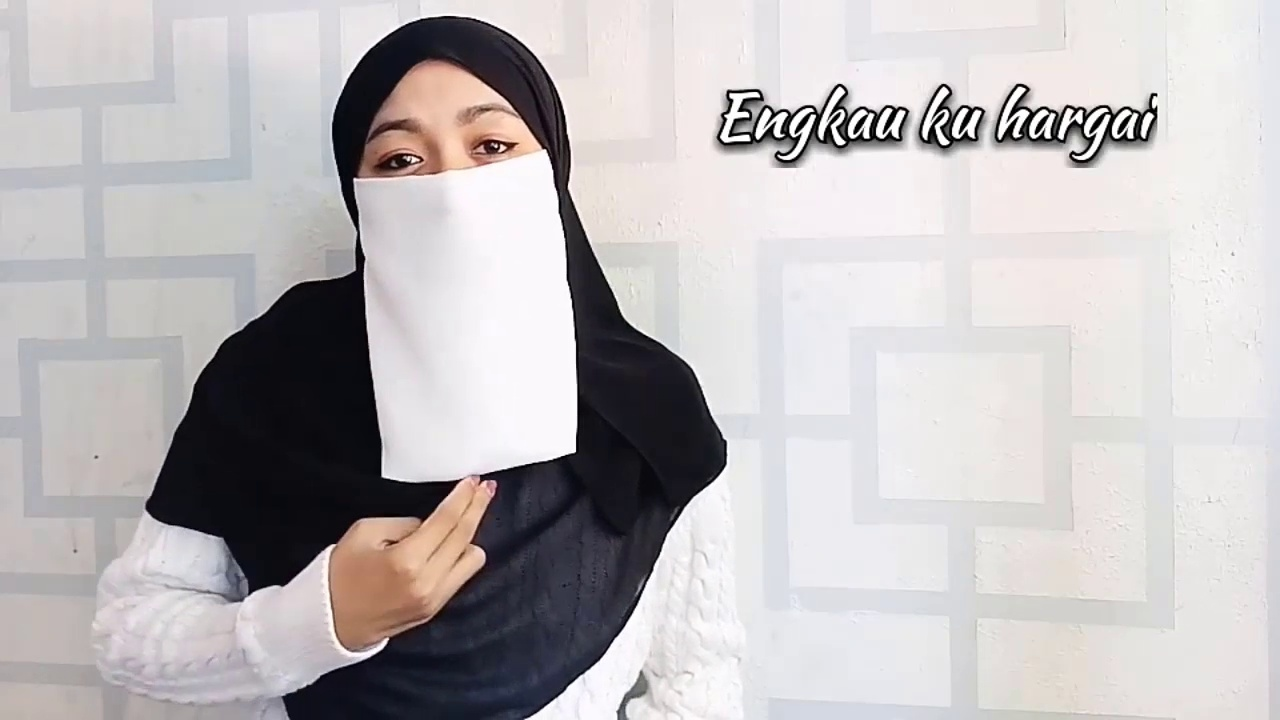AKU: (218, 345, 658, 720)
